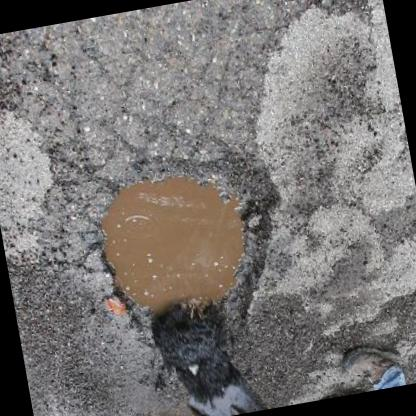pothole: (78, 127, 304, 365)
